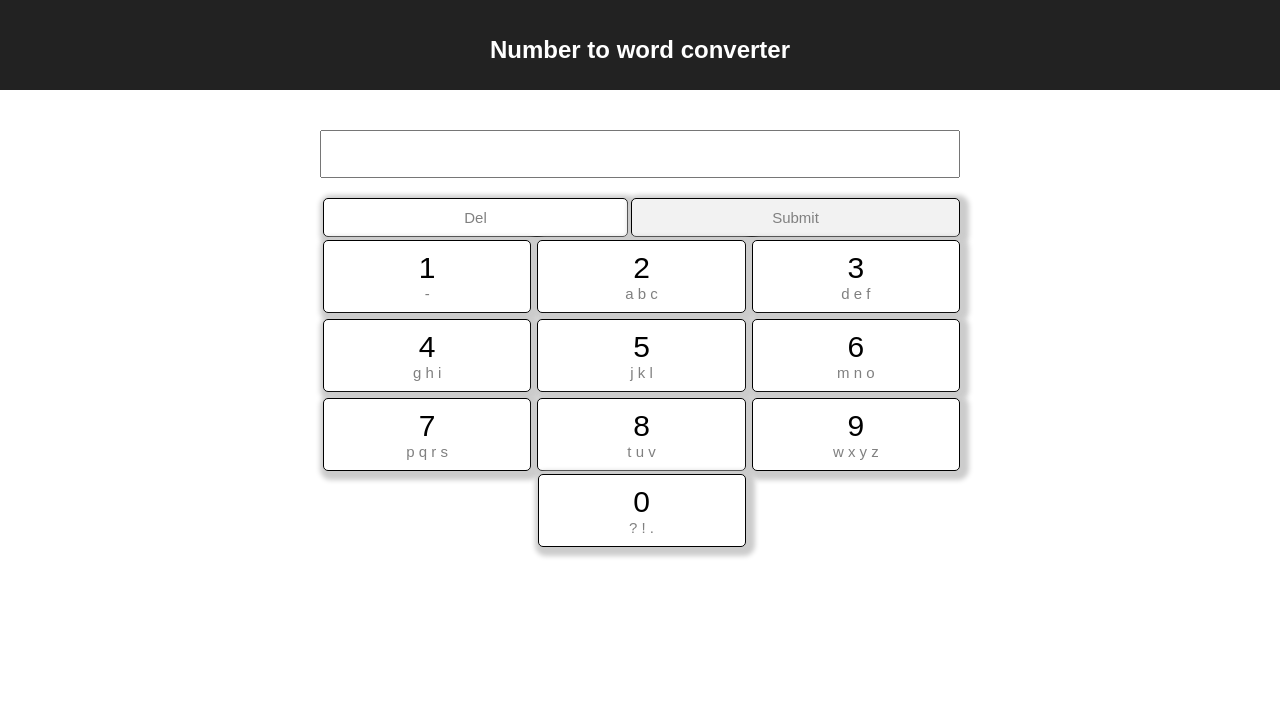
Test case: App › checks if delete button is working properly
Click the button "7 p q r s" at (427,435), box top-left (323, 398), bottom-right (531, 471)
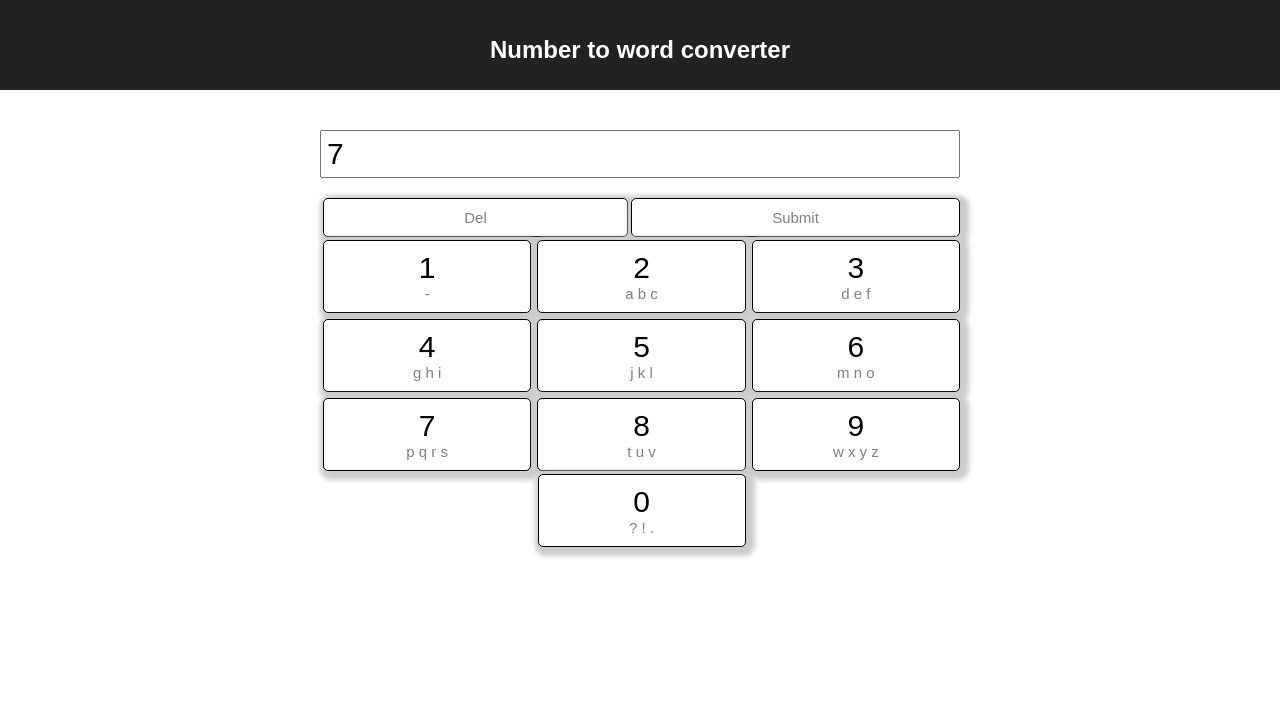
Click the button "8 t u v" at (641,435), box top-left (537, 398), bottom-right (745, 471)
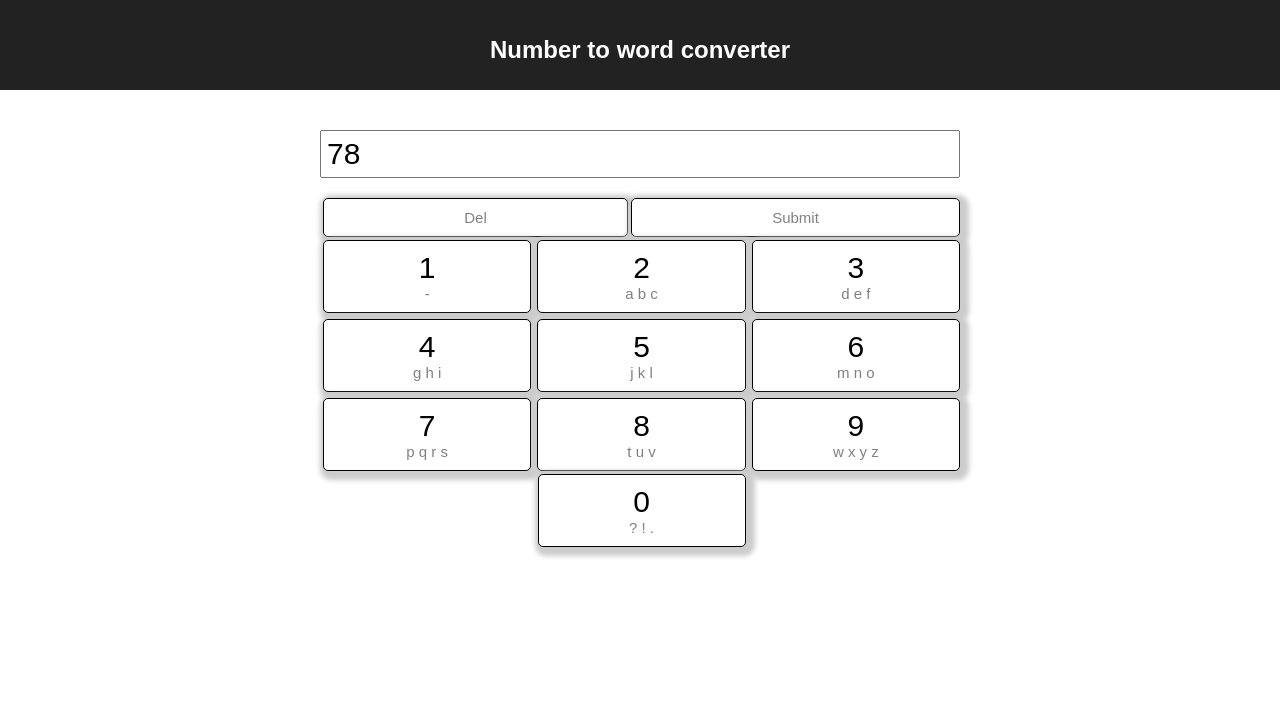
Click the button with id "delete-button" at (476,218), box top-left (323, 198), bottom-right (628, 237)
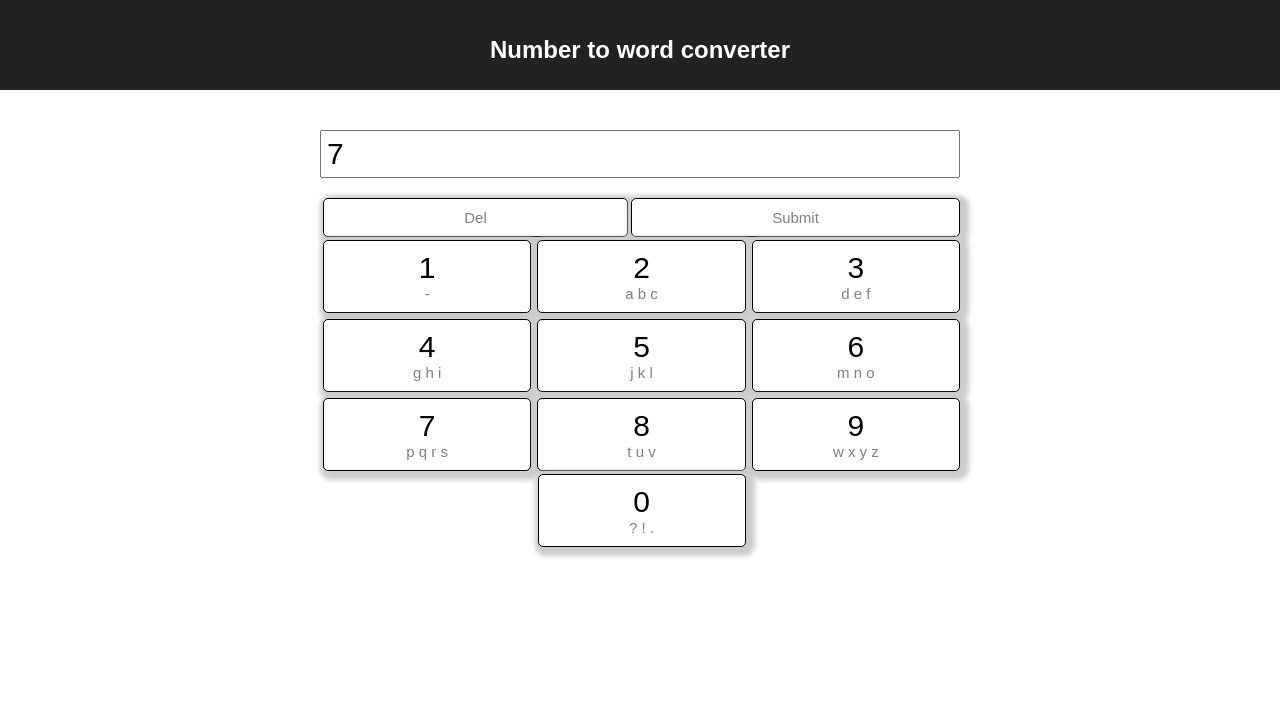
Result: the number field with class "number-input" holds "7" at top-left (320, 130), bottom-right (960, 178)
